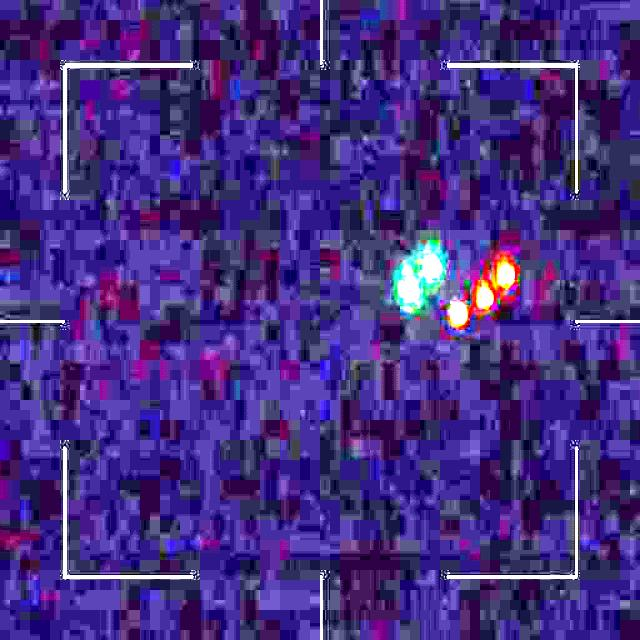bird: (396, 248, 518, 326)
